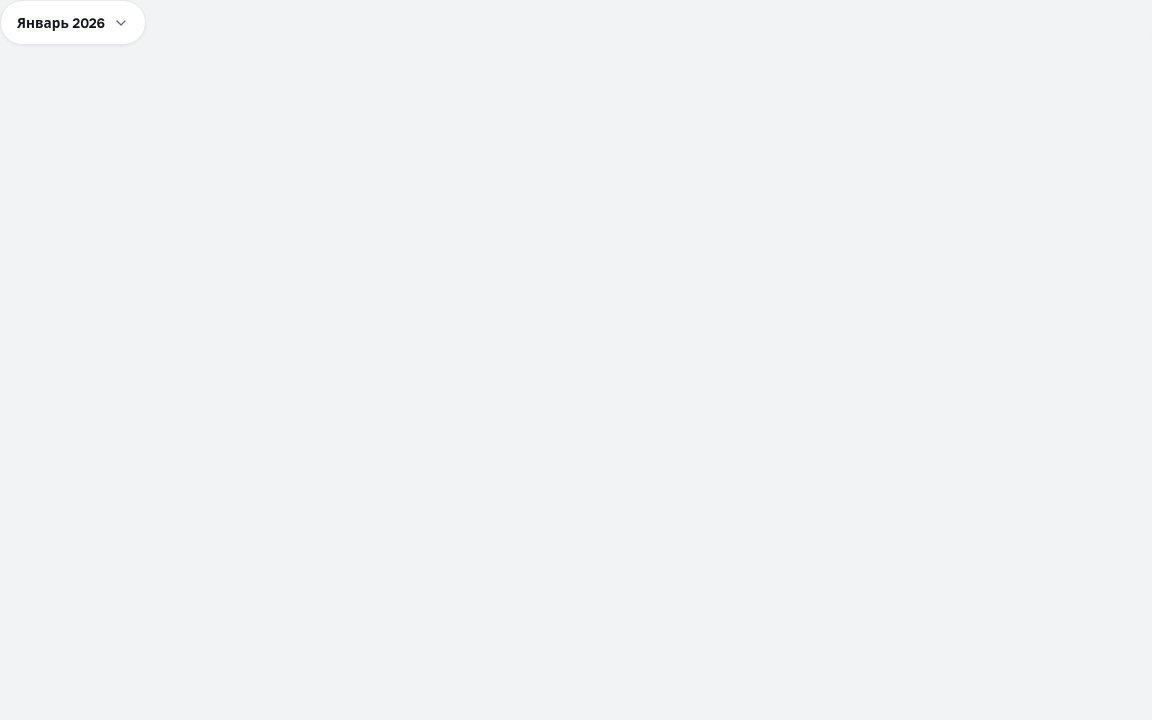
PeriodPicker chip trigger › portals the sheet to body, out of a containing block like a glass card
This screenshot has width=1152, height=720.
Click the button with aria-label "Период:": (73, 22) [0, 0, 146, 45]
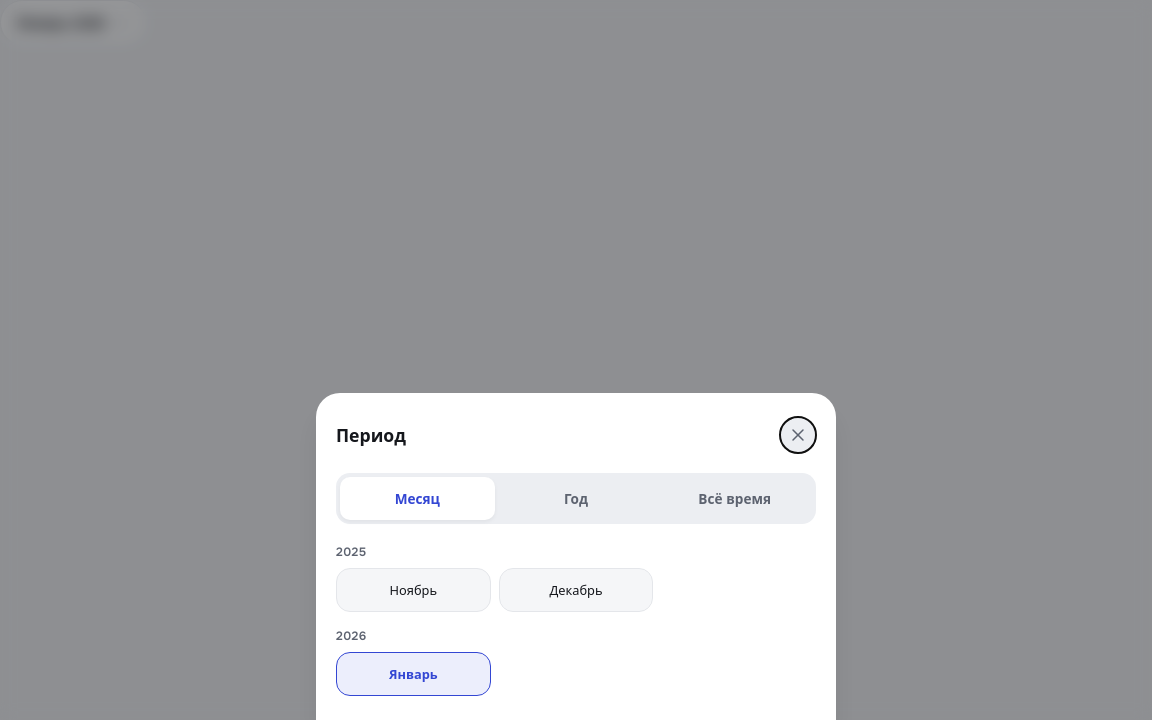
Check: the button with aria-label "Период:" is expanded, box [0, 0, 146, 45]
